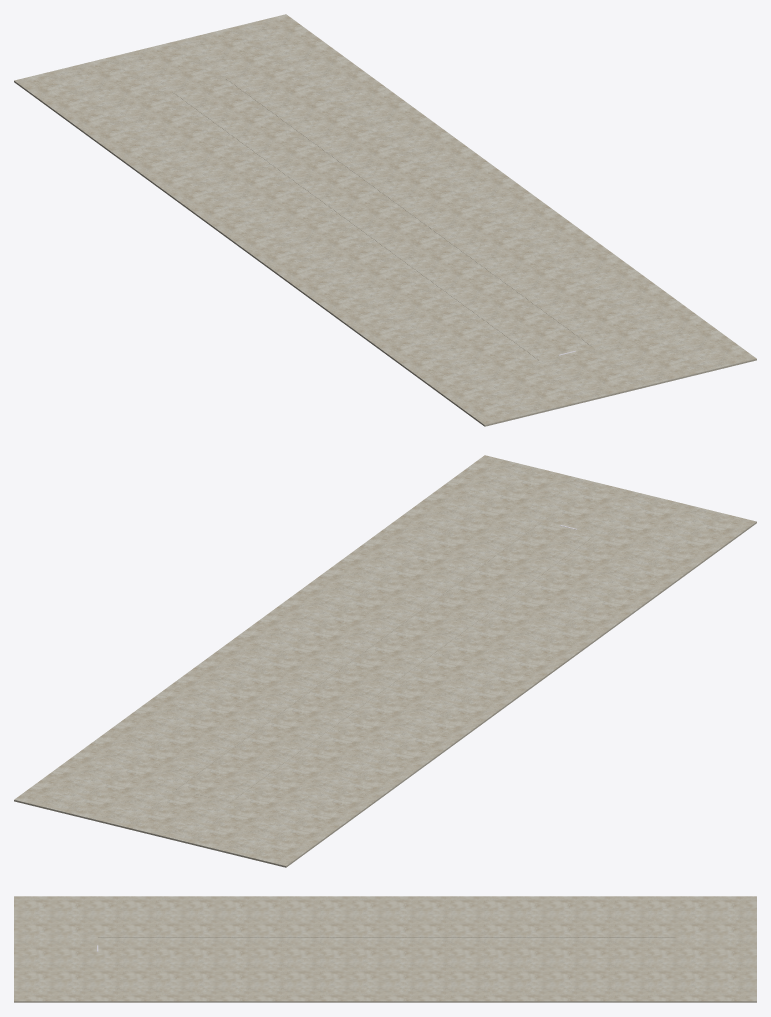
Rendered from HOSPITALLL3.fbx.
The picture shows the model from 3 angles, top to bottom: view 1: azimuth 30°, elevation 25°; view 2: azimuth 150°, elevation 25°; view 3: azimuth 270°, elevation 25°; orthographic projection. The views are drawn at different scales.
Visible parts, largest first — view 1: Roof; view 2: Roof; view 3: Roof, Cube.001, Cube__1_.
Part boxes in pixels (left/top/right/bottom): Roof: left=14, top=14, right=756, bottom=426; Roof: left=14, top=455, right=756, bottom=867; Roof: left=14, top=896, right=756, bottom=1002; Cube.001: left=98, top=958, right=675, bottom=958; Cube__1_: left=98, top=937, right=674, bottom=937.
Size of the model in its own units: 2570 by 400 by 7698.
Materials: 6 (1 with a texture image).
